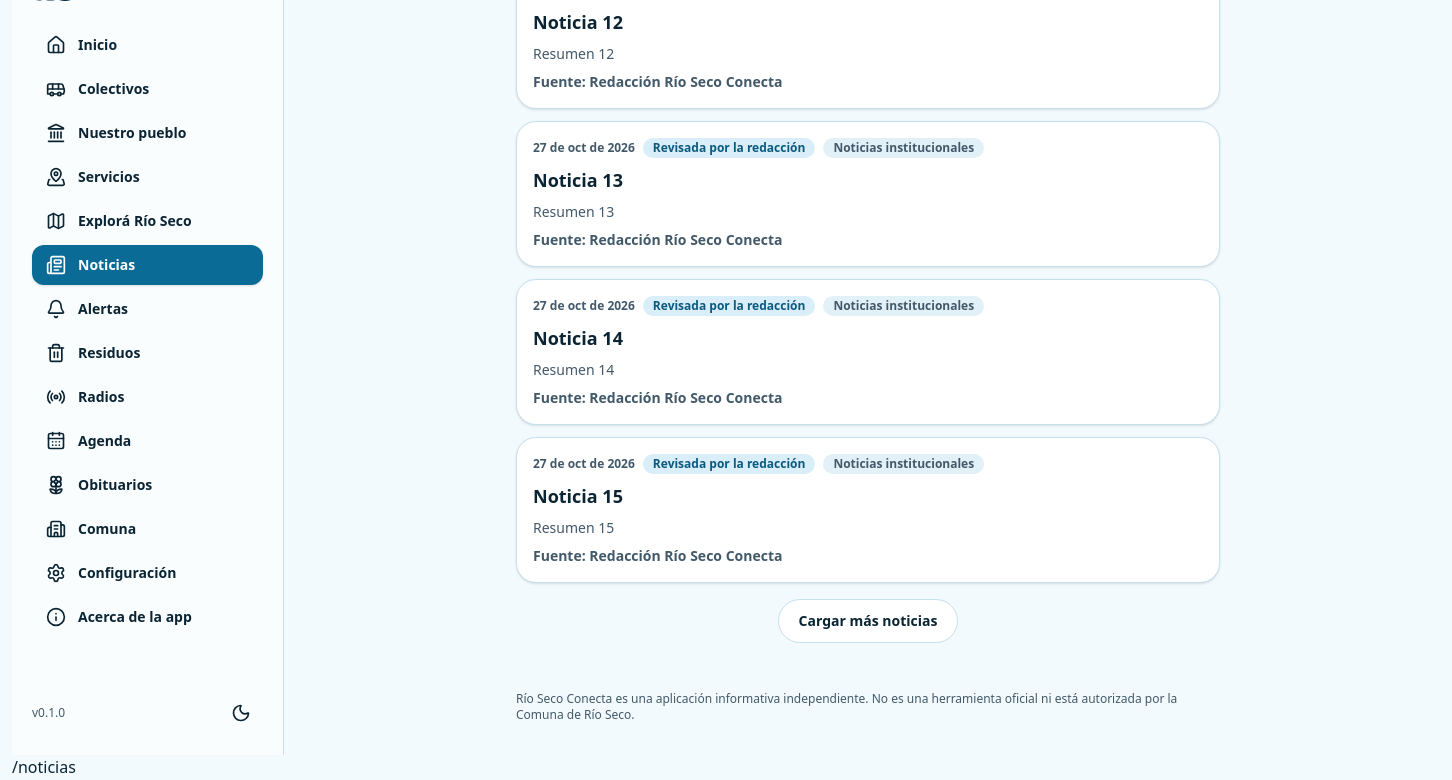
Test case: Noticias dinámicas › pagina con «Cargar más» usando la fecha de la última nota como cursor, sin duplicar
(page scrolled)
Click the button "Cargar más noticias" at (868, 621), box [778,599,958,643]
(page scrolled)
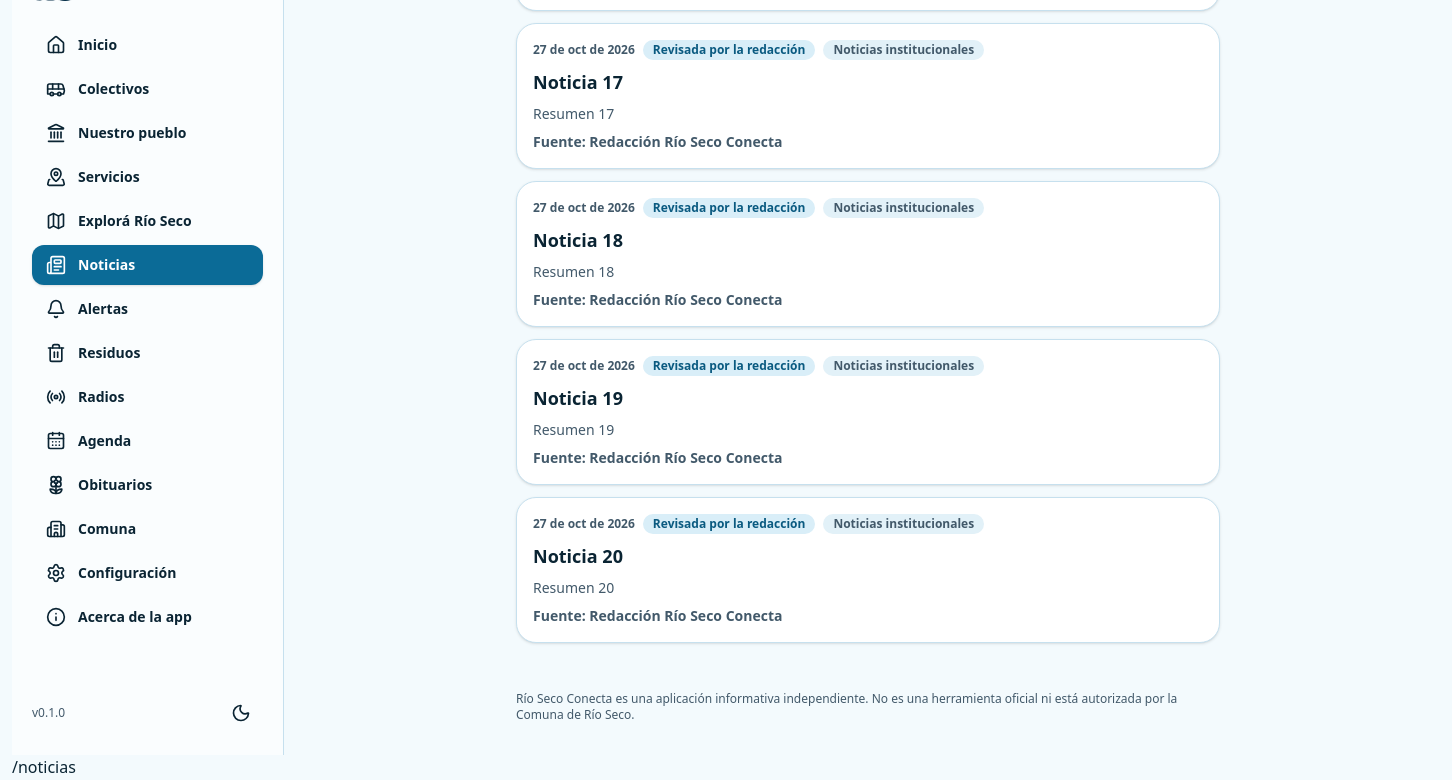
Expected: the heading "Noticia 20" is shown, [533,544,623,568]
Expected: the button "Cargar más noticias" is gone
